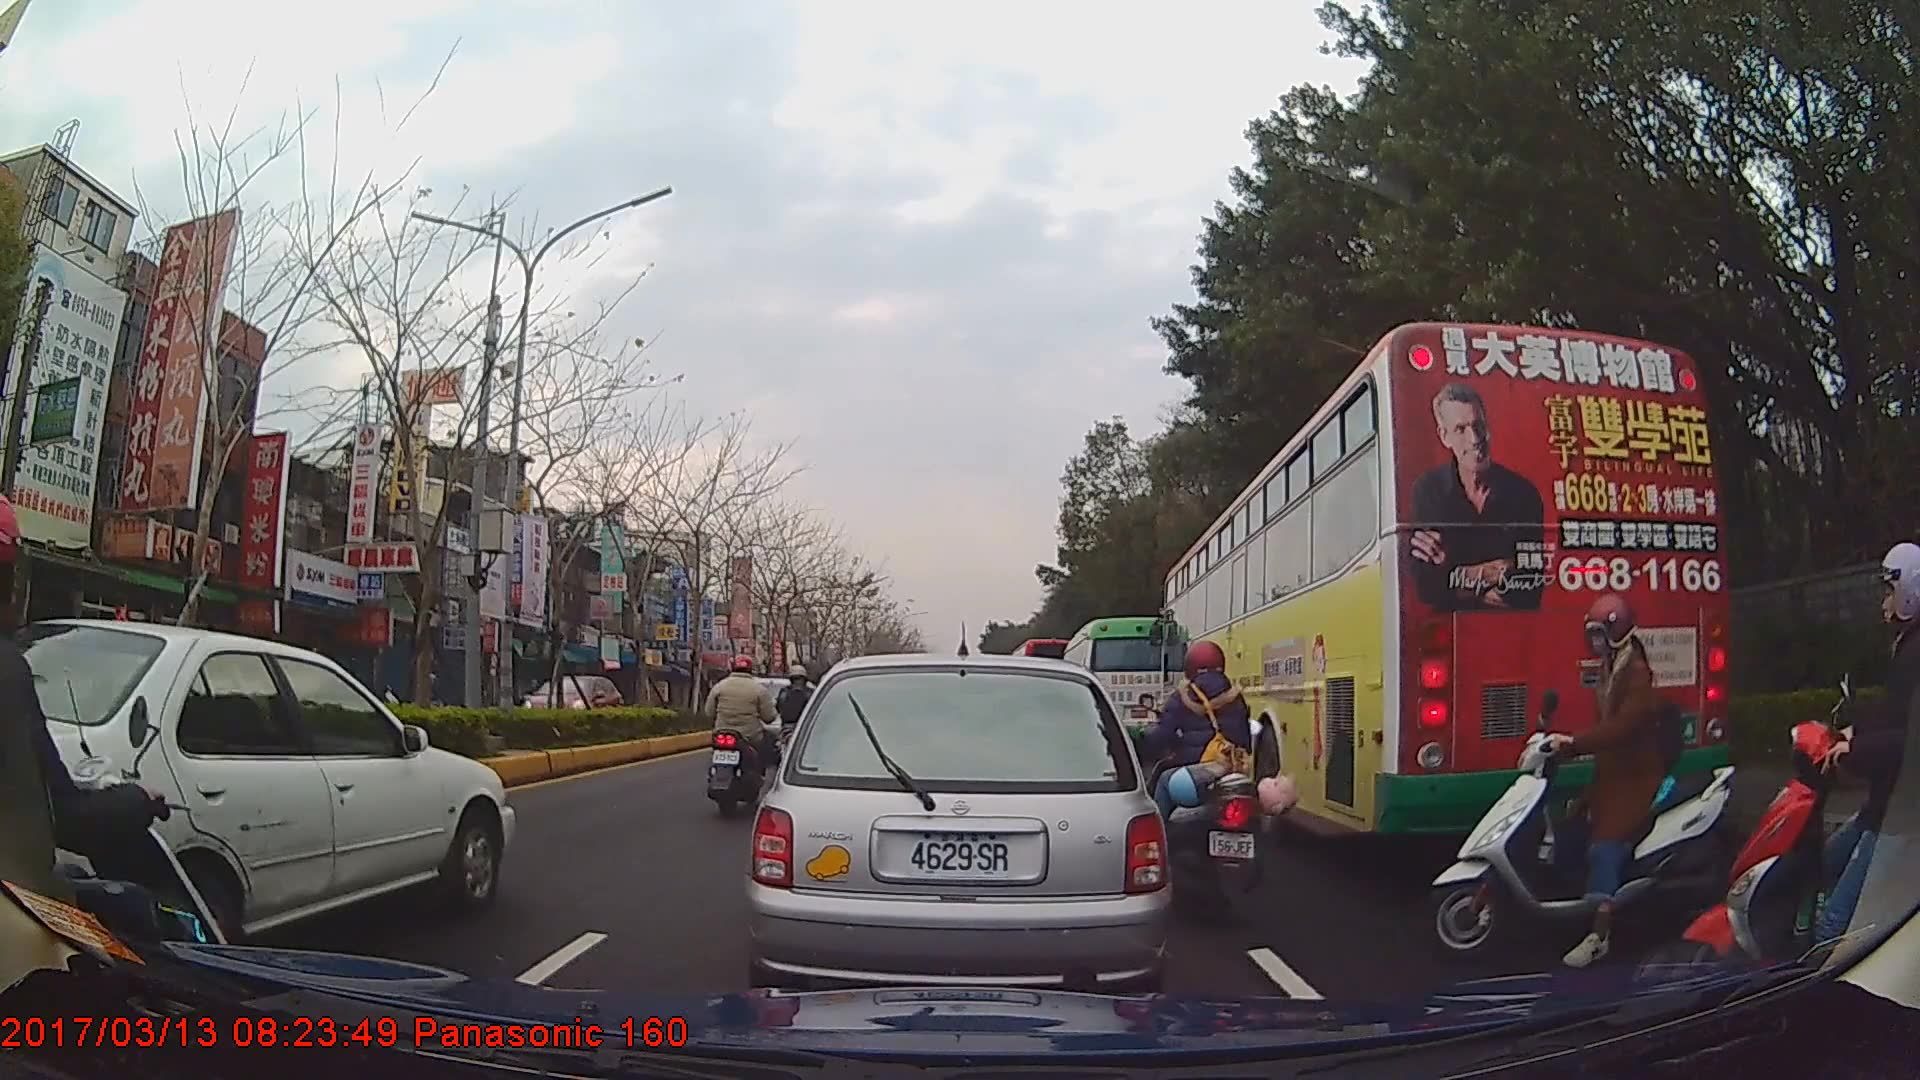rider: (1, 495, 233, 1052), (1420, 592, 1739, 969), (1684, 542, 1920, 1006), (1134, 644, 1298, 930), (704, 654, 774, 819), (776, 666, 823, 764)
vehicle: (1159, 319, 1731, 846), (0, 604, 514, 956), (743, 653, 1172, 997), (1061, 615, 1169, 758), (522, 671, 624, 733)
